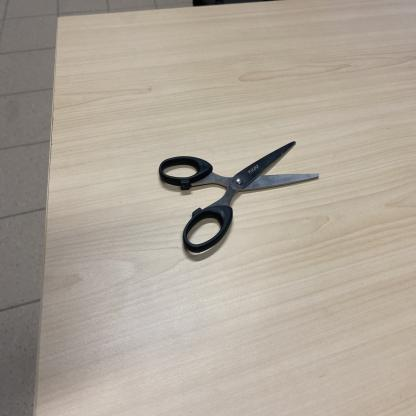scissors: (157, 137, 319, 262)
